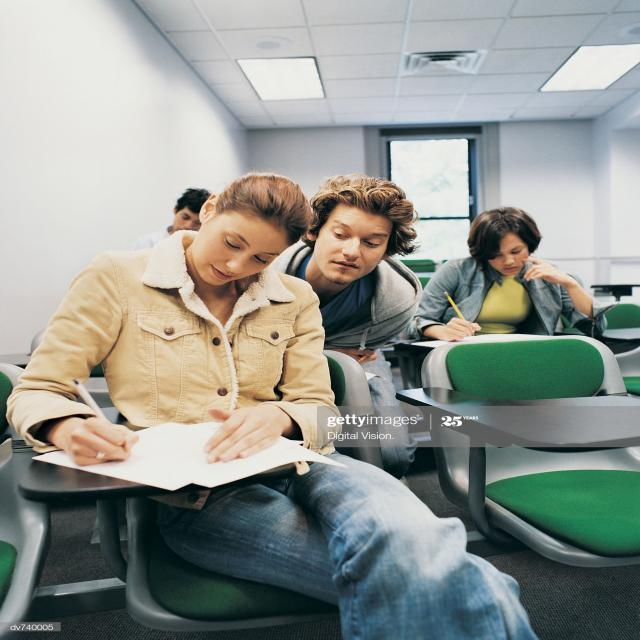cheating: (303, 169, 435, 333)
good: (6, 163, 317, 491), (412, 192, 606, 333)
